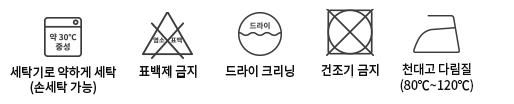KR_dry_clean: (232, 7, 288, 59)
KR_no_chlorine_bleach: (139, 9, 196, 61)
KR_no_tumble_dry: (322, 4, 378, 59)
KR_wash_warm_30_neutral: (39, 13, 88, 61)
